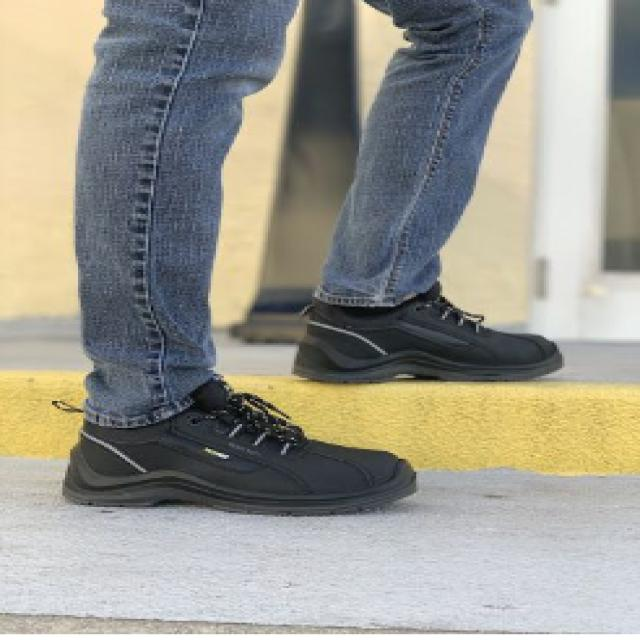shoes: (61, 378, 419, 512), (290, 285, 564, 383)
